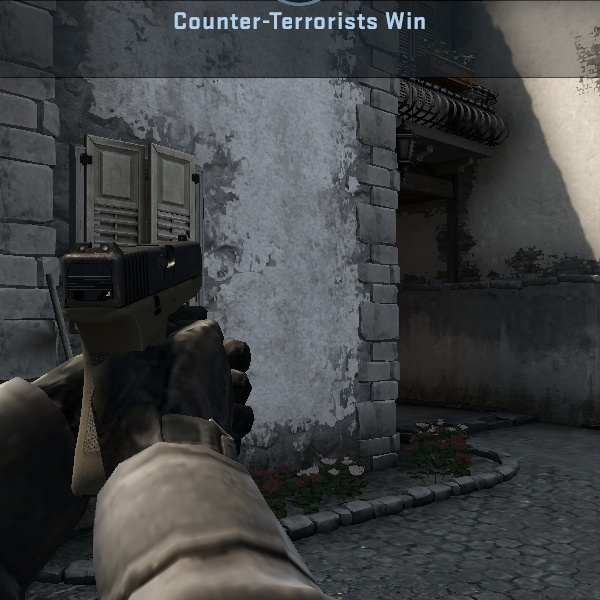ct_body: (20, 112, 287, 590)
